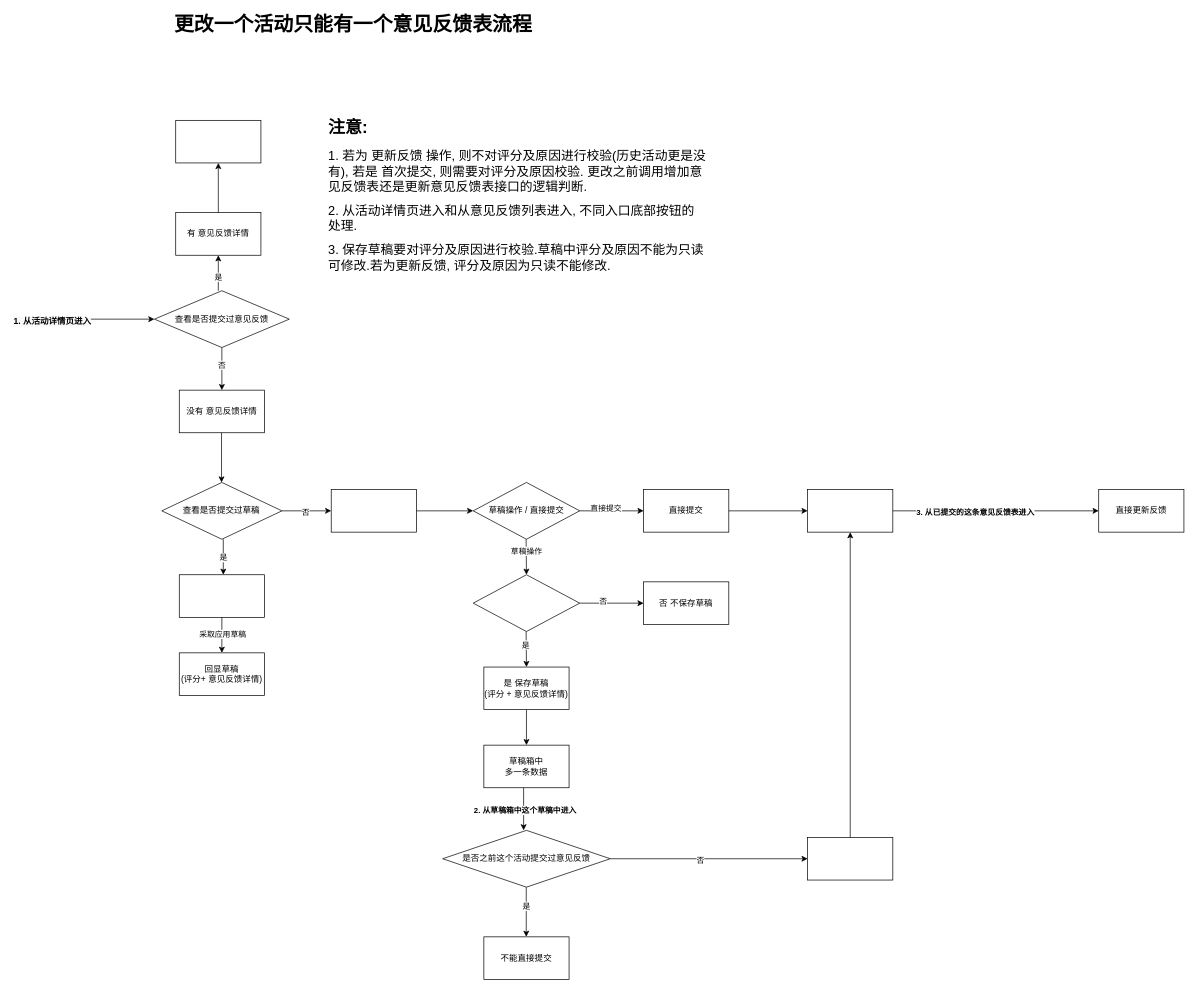
Image size: 1196x992. Some labels were removed from this diagram. Each missing label, with the centre of its shape:
"可以直接提交" belongs at point (850, 858).
"回显意见反馈 (评分 + 意见反馈详情)" belongs at point (218, 141).
"已提交列表中 多一条数据" belongs at point (850, 510).
"是否保存草稿" belongs at point (526, 603).
"有 草稿详情" belongs at point (221, 595).
"没有 草稿详情" belongs at point (373, 510).
